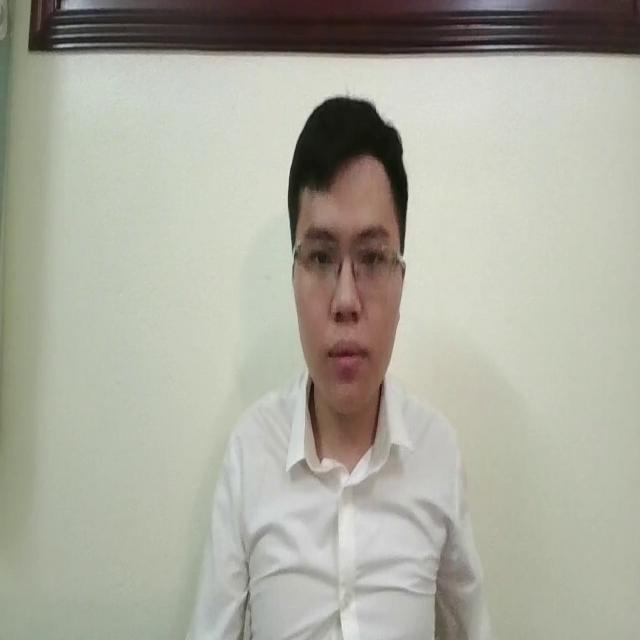student: (187, 98, 508, 640)
